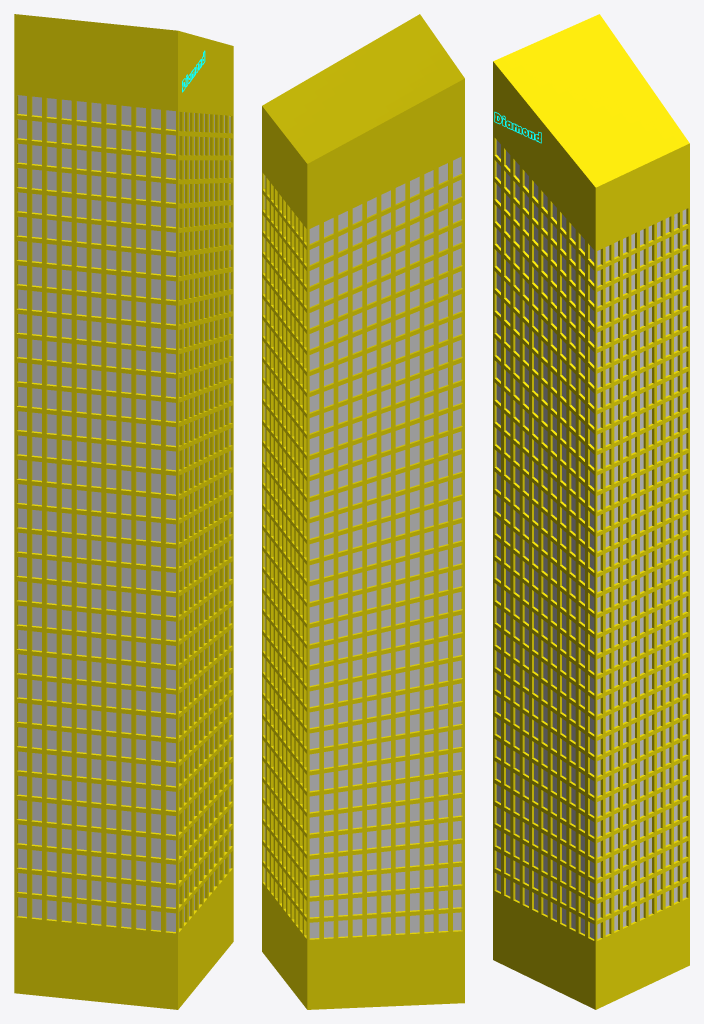
Rendered from DiamondTower.fbx.
The picture shows the model from 3 angles, left to right: view 1: azimuth 30°, elevation 25°; view 2: azimuth 150°, elevation 25°; view 3: azimuth 270°, elevation 25°; orthographic projection. The views are drawn at different scales.
Visible parts, largest first — view 1: DiamondTower; view 2: DiamondTower; view 3: DiamondTower.
Boxes of the visible parts, left/top/right/bottom form: DiamondTower: left=14, top=14, right=233, bottom=1009; DiamondTower: left=262, top=14, right=464, bottom=1009; DiamondTower: left=493, top=14, right=689, bottom=1009.
Size of the model in its own units: 4174 by 17998 by 3569.
